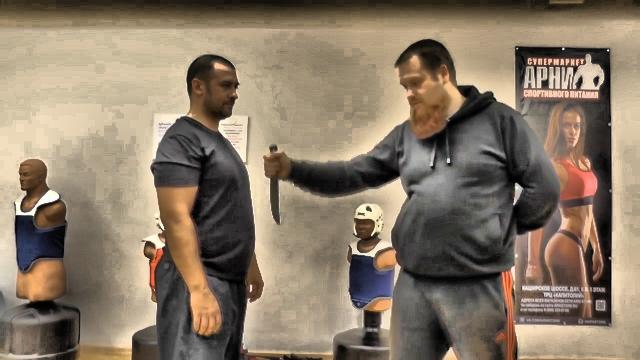knife: (261, 141, 287, 226)
